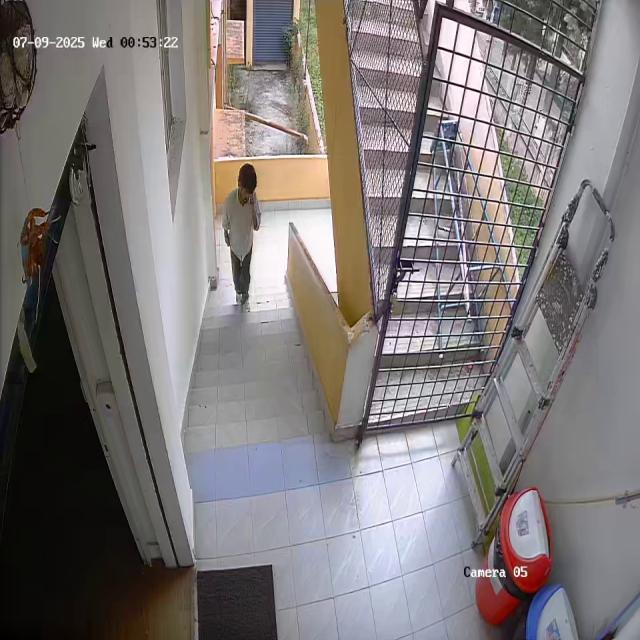person: (220, 164, 263, 306)
